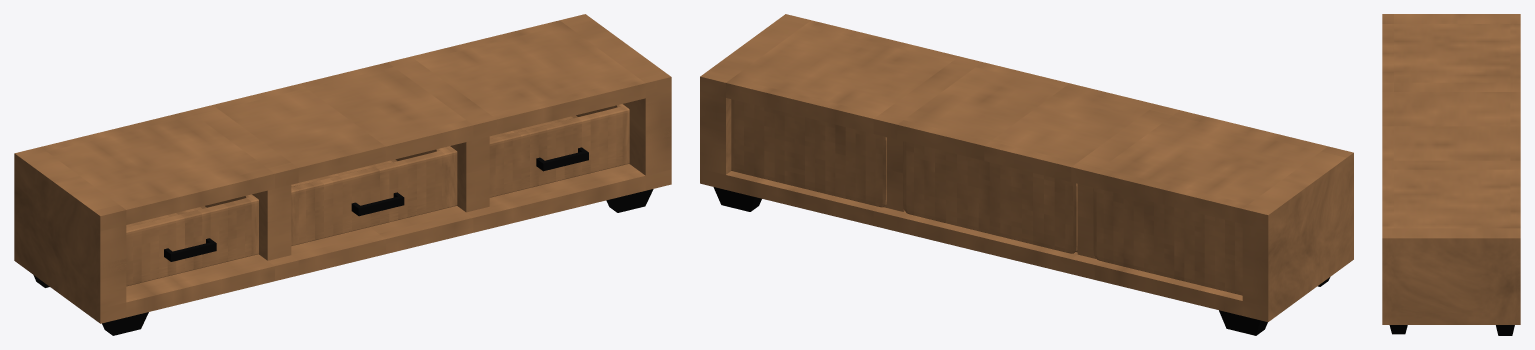
Rendered from tv_stand.fbx.
The picture shows the model from 3 angles, left to right: view 1: azimuth 30°, elevation 25°; view 2: azimuth 150°, elevation 25°; view 3: azimuth 270°, elevation 25°; orthographic projection. The views are drawn at different scales.
Visible parts, largest first — view 1: Cube.011; view 2: Cube.011; view 3: Cube.011.
Boxes of the visible parts, <box> form: Cube.011: <box>14,14,671,335</box>; Cube.011: <box>700,14,1353,335</box>; Cube.011: <box>1382,14,1520,335</box>.
Bounding box in the file's own units: 1875 × 405 × 489.
1 material, 1 textured.
